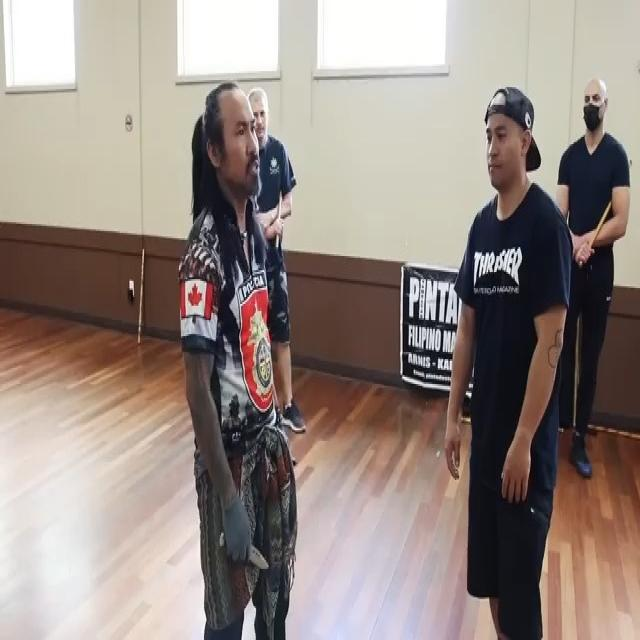Sharp-Object: (220, 526, 270, 573)
